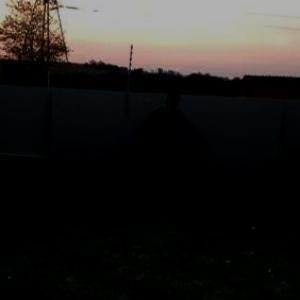land: (126, 89, 208, 204)
